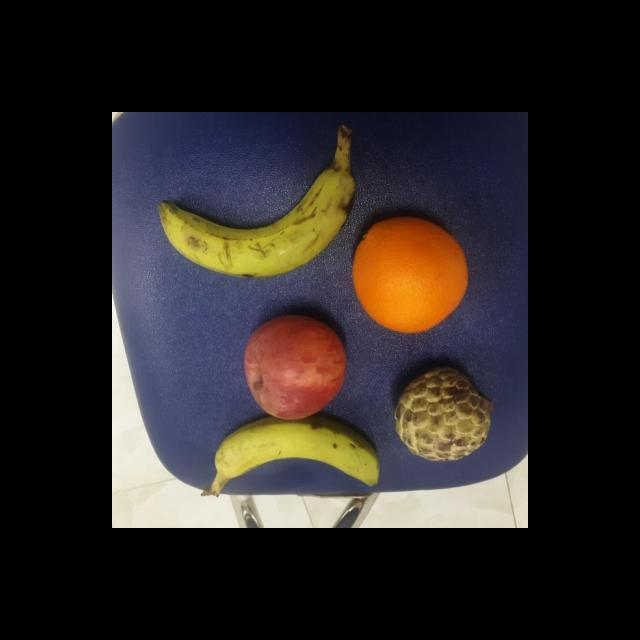Sakya fruit: (392, 365, 493, 465)
apple: (242, 312, 350, 420)
banana: (158, 165, 356, 282), (208, 416, 384, 494)
orange: (348, 218, 468, 334)
